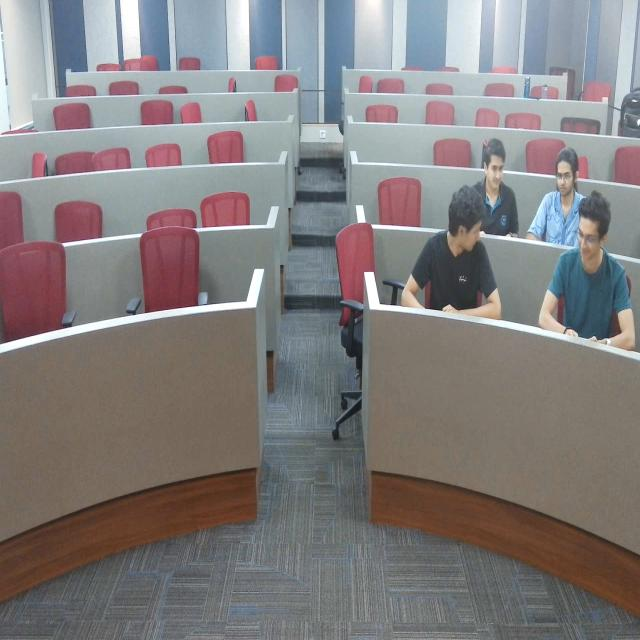cheating: (546, 206, 637, 364), (406, 193, 502, 330), (532, 144, 584, 245), (474, 138, 521, 229)
